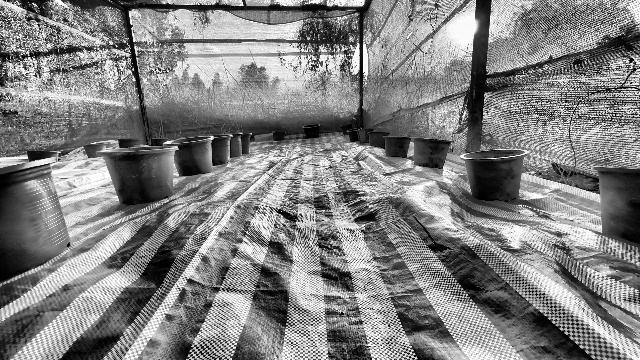pot: (0, 156, 72, 283), (97, 143, 178, 205), (590, 166, 640, 244), (460, 149, 528, 203), (164, 136, 214, 176), (410, 137, 453, 169), (382, 134, 411, 157), (211, 134, 233, 164), (79, 142, 108, 158), (26, 149, 61, 162), (368, 131, 392, 148), (229, 132, 243, 157), (114, 137, 143, 148), (241, 131, 252, 155), (302, 124, 320, 138), (358, 128, 373, 143), (272, 129, 285, 140)
